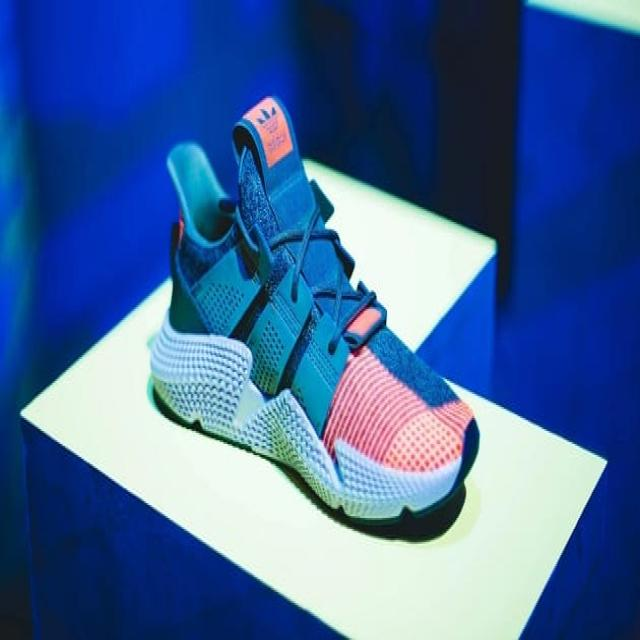shoe: (146, 86, 479, 533)
